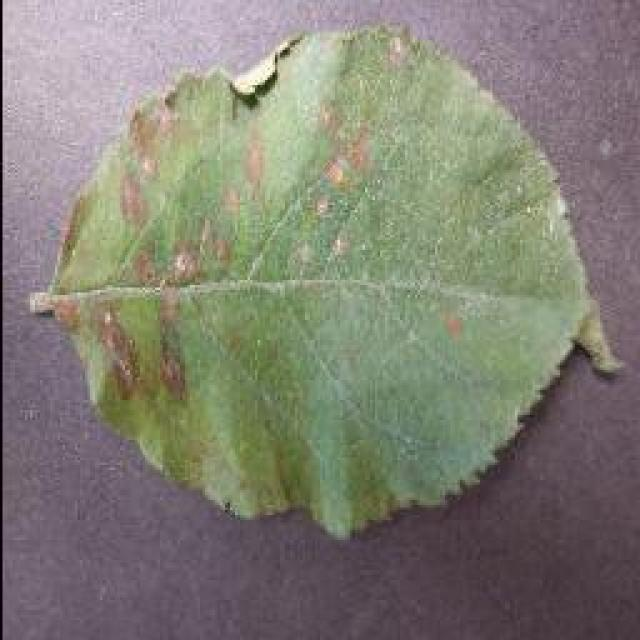apple cedar apple rust: (27, 20, 625, 540)
